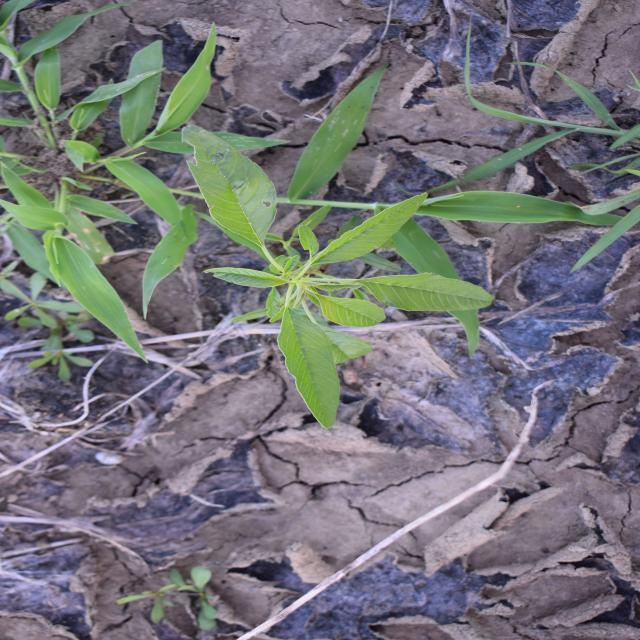Carpetweed: (1, 269, 97, 383), (110, 566, 223, 632)
Waterhemp: (179, 124, 498, 430)
